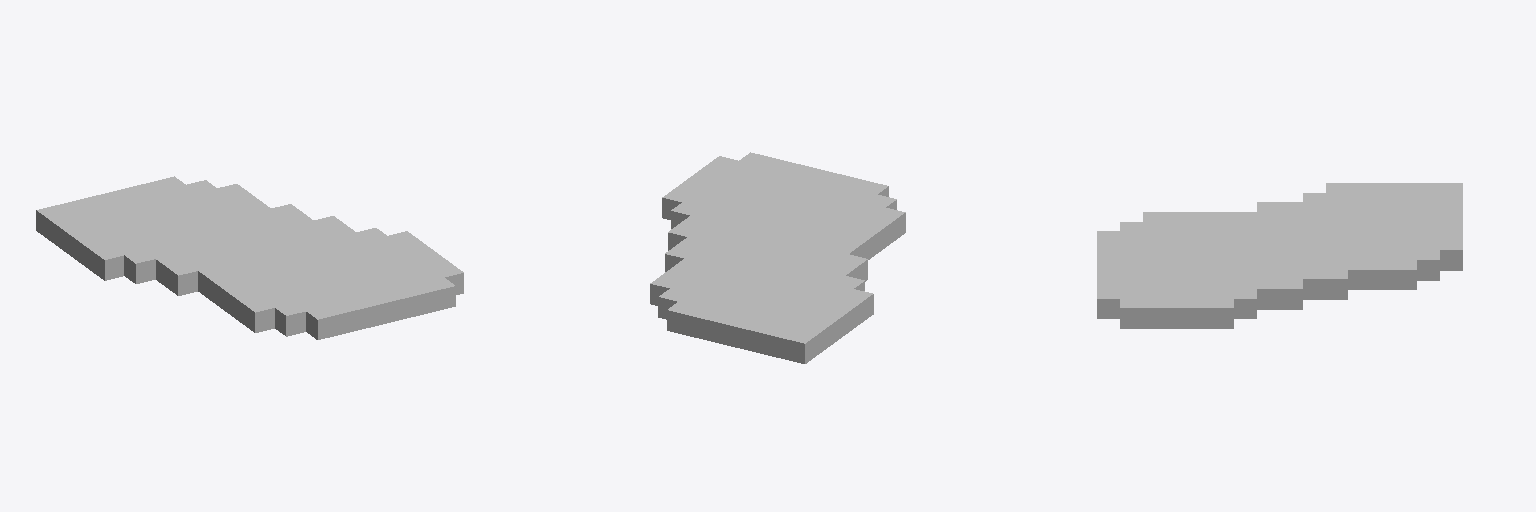
Rendered from planeObj02_2.obj.
3 renders of one model, left to right at view 1: azimuth 30°, elevation 25°; view 2: azimuth 150°, elevation 25°; view 3: azimuth 270°, elevation 25°, orthographic.
Visible parts, largest first — view 1: 바닥2; view 2: 바닥2; view 3: 바닥2.
Part boxes in pixels (bbox=[...]): 바닥2: bbox=[36, 176, 463, 339]; 바닥2: bbox=[650, 152, 905, 363]; 바닥2: bbox=[1097, 183, 1462, 328].
Bounding box in the file's own units: 1.3 × 0.1 × 1.6.